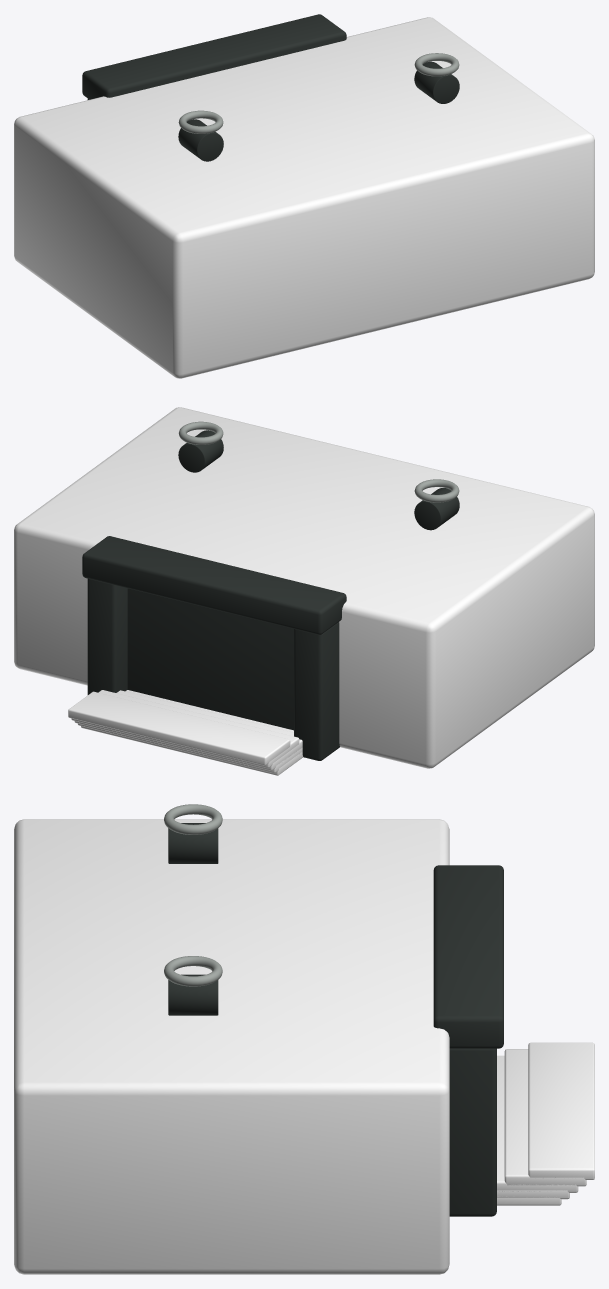
Rendered from exterior_entrance_v3.glb.
3 renders of one model, top to bottom at view 1: azimuth 30°, elevation 25°; view 2: azimuth 150°, elevation 25°; view 3: azimuth 270°, elevation 25°, orthographic. The views are drawn at different scales.
Visible parts, largest first — view 1: SurfaceBunker, EntranceLintel, RoofVent-2.8, RoofVent2.8, RoofVentCap2.8, RoofVentCap-2.8; view 2: SurfaceBunker, EntranceCut, EntranceLintel, EntranceStep_4, EntrancePier-2.45, EntrancePier2.45, EntranceStep_3, EntranceStep_2, RoofVent2.8, RoofVent-2.8, EntranceStep_1, RoofVentCap2.8 (+2 smaller); view 3: SurfaceBunker, EntranceLintel, EntranceStep_4, EntrancePier2.45, EntranceStep_3, RoofVent2.8, RoofVent-2.8, EntranceStep_2, RoofVentCap-2.8, RoofVentCap2.8.
Part boxes in pixels (x1,y1,x2,y2): SurfaceBunker: (14,17,594,378); EntranceLintel: (82,14,346,99); RoofVent-2.8: (178,119,223,161); RoofVent2.8: (414,61,459,103); RoofVentCap2.8: (414,53,459,76); RoofVentCap-2.8: (178,110,223,133); SurfaceBunker: (14,407,594,768); EntranceCut: (127,588,293,730); EntranceLintel: (82,536,346,634); EntranceStep_4: (68,691,290,765); EntrancePier-2.45: (294,622,339,760); EntrancePier2.45: (87,578,127,694); EntranceStep_3: (71,690,299,767); EntranceStep_2: (74,690,302,770); RoofVent2.8: (178,430,223,472); RoofVent-2.8: (414,488,459,530); EntranceStep_1: (78,690,302,772); RoofVentCap2.8: (178,421,223,444); SurfaceBunker: (14,819,449,1274); EntranceLintel: (433,865,503,1048); EntranceStep_4: (528,1042,594,1179); EntrancePier2.45: (449,1048,496,1216); EntranceStep_3: (504,1049,586,1186); RoofVent2.8: (168,974,218,1015); RoofVent-2.8: (168,823,218,863); EntranceStep_2: (497,1055,578,1192); RoofVentCap-2.8: (164,804,222,834); RoofVentCap2.8: (164,956,222,986).
Bounding box in the file's own units: 10 × 4.34 × 9.07.
Materials: 4 (1 with a texture image).
